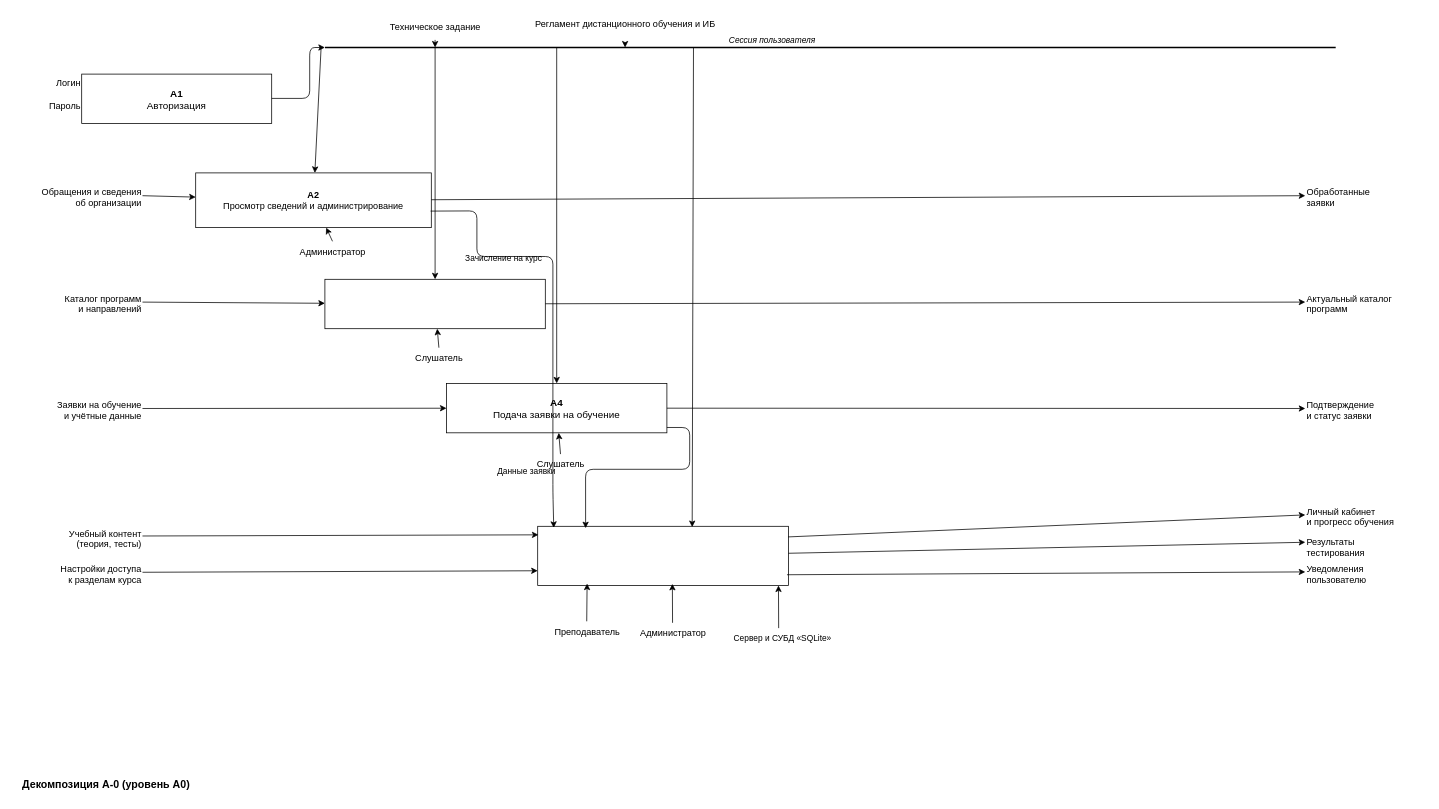
Image size: 1439x809. Some labels were removed from this diagram. The box of each missing label's shape, as (x1, y1, x2, y2) in pixels:
A3 Просмотр каталога программ: (324, 279, 545, 329)
A5 Обработка заявок, доступ и обучение: (537, 526, 788, 586)
